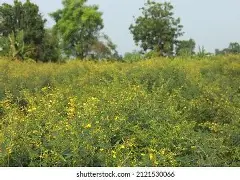crops: (0, 61, 237, 162), (0, 0, 237, 64), (176, 124, 240, 165), (107, 131, 174, 165), (35, 57, 126, 82), (185, 86, 240, 126), (125, 61, 192, 93), (50, 132, 108, 167), (69, 92, 111, 132), (4, 69, 55, 94), (195, 53, 240, 81), (3, 136, 38, 167), (35, 29, 63, 63), (2, 28, 27, 59), (15, 88, 41, 112), (0, 88, 17, 112), (192, 120, 215, 133), (123, 51, 144, 63), (177, 44, 191, 56), (195, 44, 206, 57)
